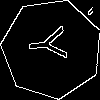Y: (26, 24, 77, 64)
